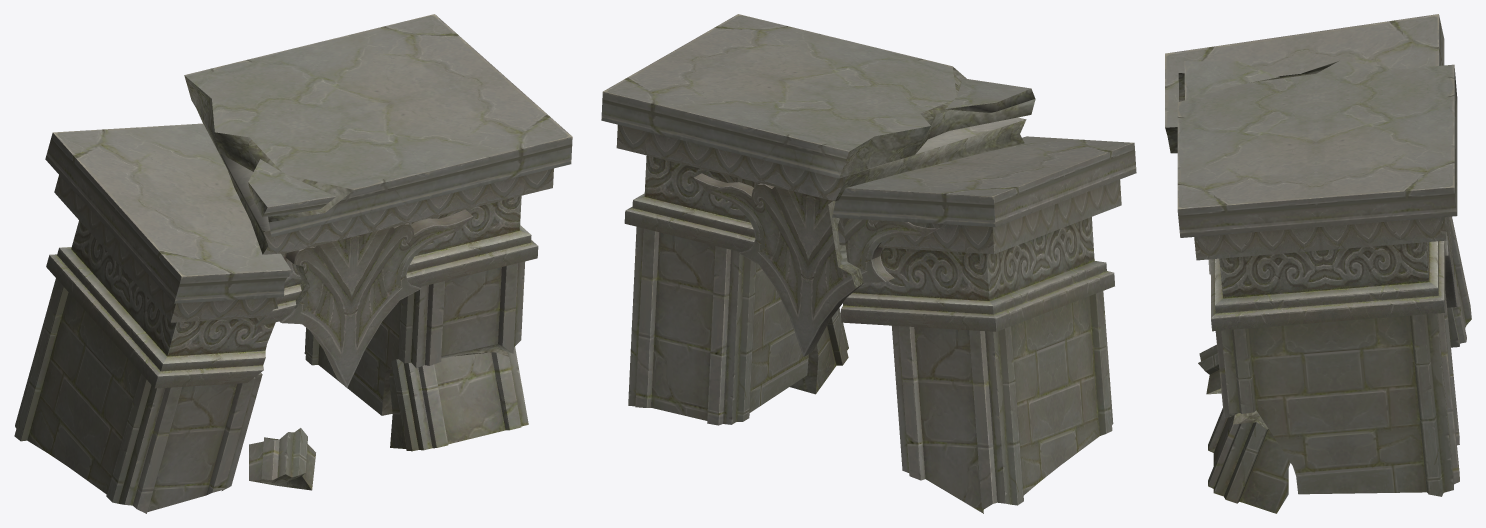
Rendered from wlf_wujian04_jgc.FBX.
3 renders of one model, left to right at view 1: azimuth 30°, elevation 25°; view 2: azimuth 150°, elevation 25°; view 3: azimuth 270°, elevation 25°, orthographic. The views are drawn at different scales.
Visible parts, largest first — view 1: wlf_wujian04_jgc; view 2: wlf_wujian04_jgc; view 3: wlf_wujian04_jgc.
Boxes of the visible parts, <box> form: wlf_wujian04_jgc: <box>14,14,572,513</box>; wlf_wujian04_jgc: <box>601,14,1136,513</box>; wlf_wujian04_jgc: <box>1165,14,1471,513</box>.
Bounding box in the file's own units: 55.86 × 42.95 × 35.04.
